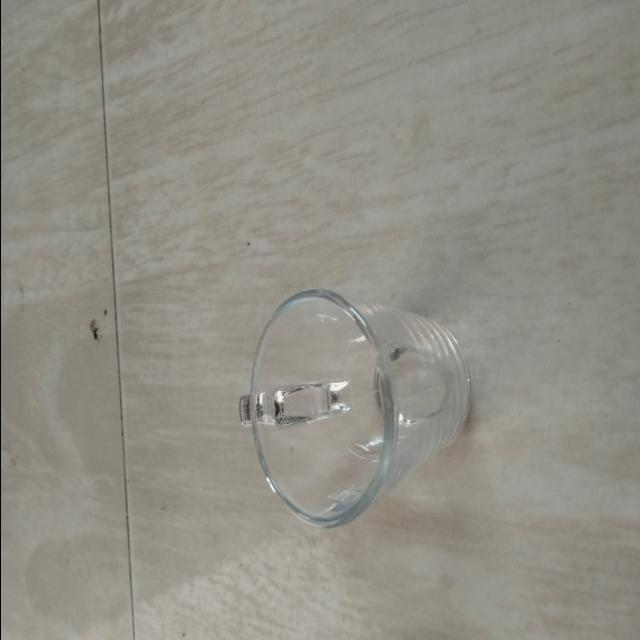glass-VX4N: (236, 286, 471, 530)
